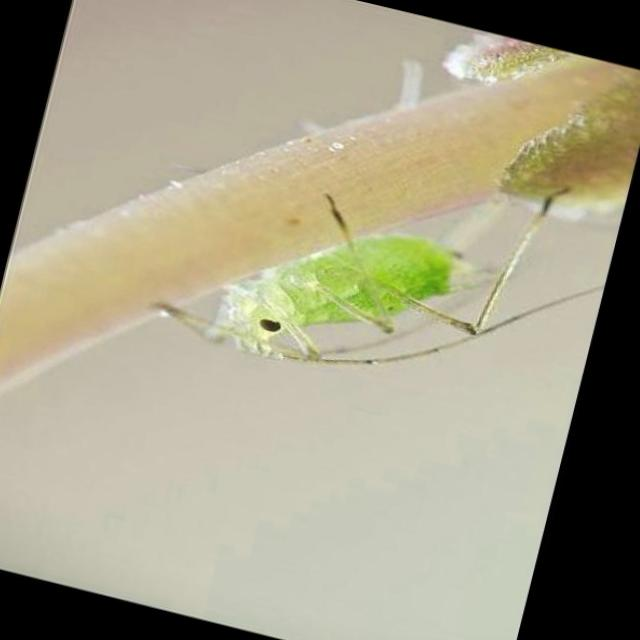aphid: (151, 124, 583, 434)
